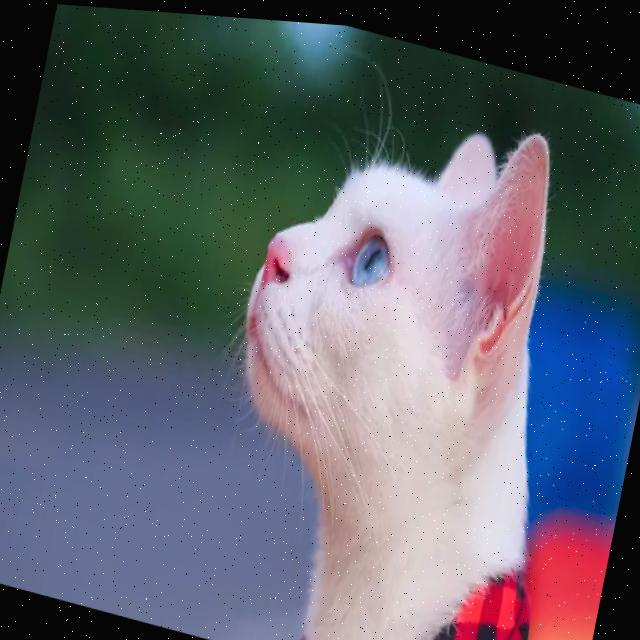Khao Manee: (180, 46, 640, 640)
